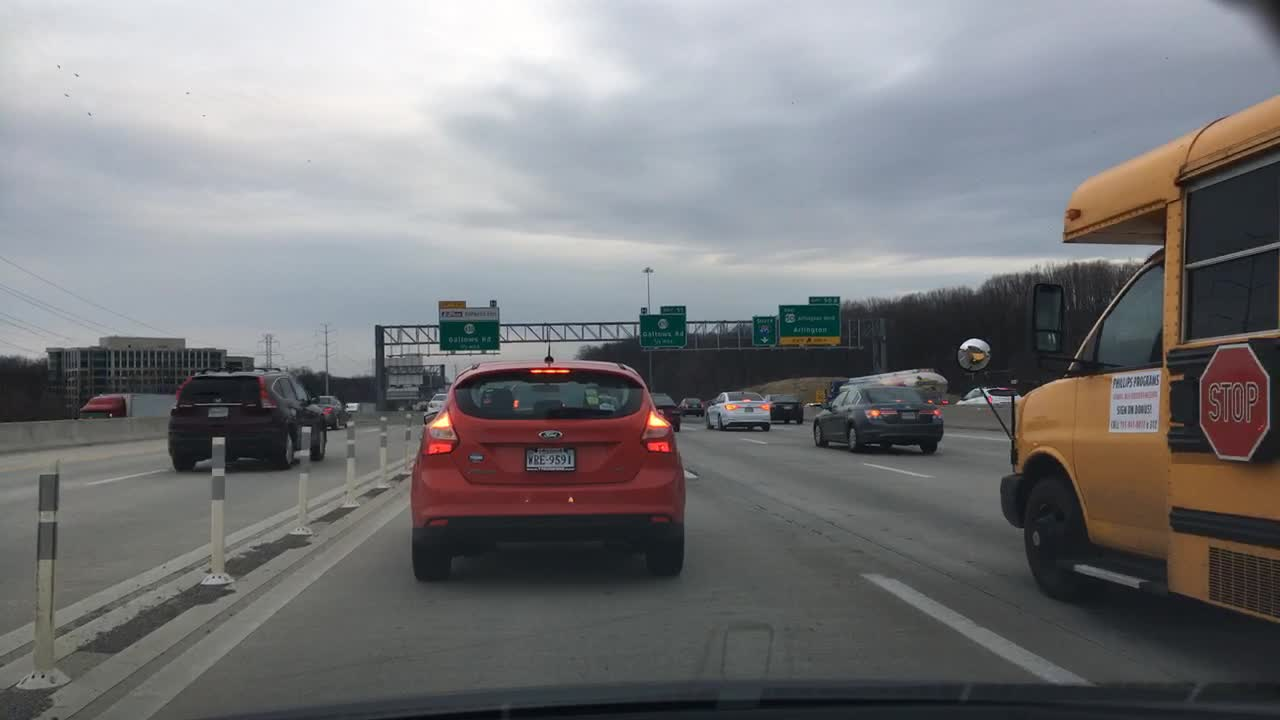bus: (954, 87, 1279, 623)
car: (407, 341, 685, 578), (167, 366, 326, 466), (810, 385, 942, 451), (703, 388, 771, 431), (313, 390, 349, 429), (765, 391, 804, 424), (650, 391, 681, 429), (954, 385, 1023, 402), (424, 393, 448, 417), (678, 396, 703, 417), (346, 398, 360, 413), (804, 401, 819, 412)
traffic sign: (437, 297, 498, 351), (776, 294, 840, 344), (636, 305, 686, 348), (386, 356, 423, 383), (750, 315, 776, 346)
truck: (818, 366, 948, 407), (75, 391, 174, 420)
